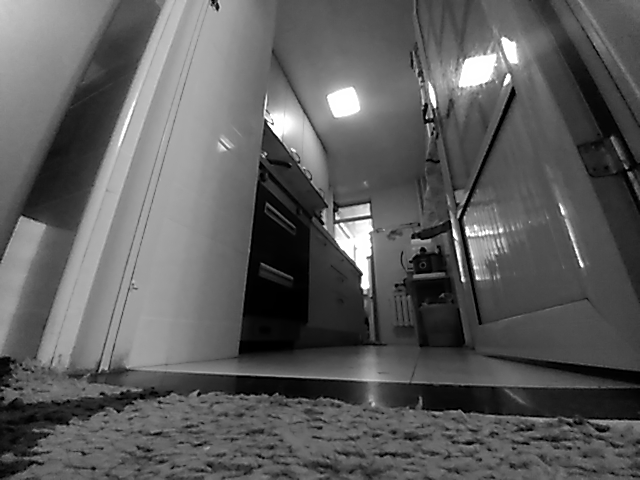carpet: (1, 354, 640, 479)
